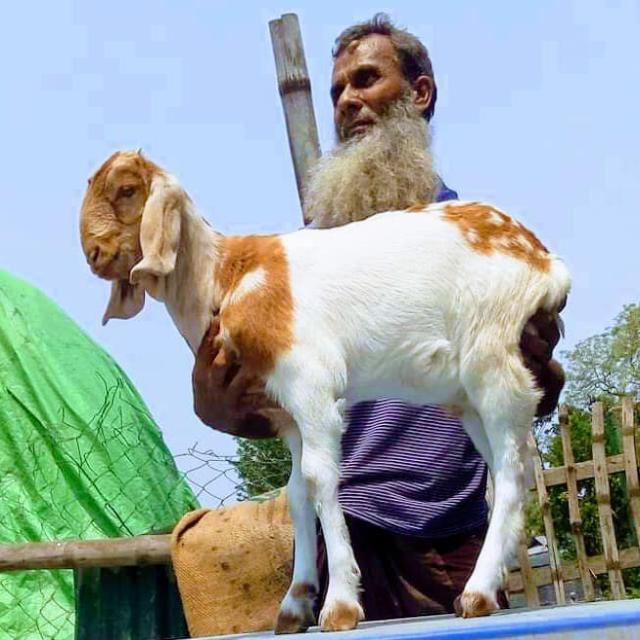Goat: (79, 145, 571, 634)
